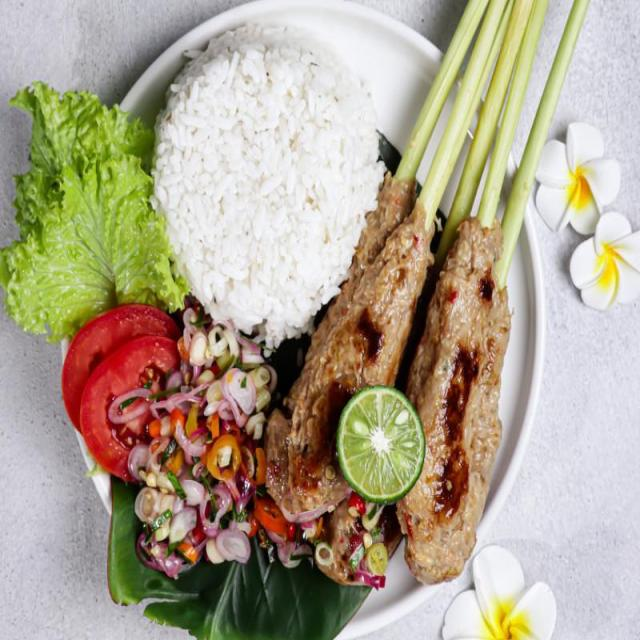Sate: (235, 10, 628, 596)
